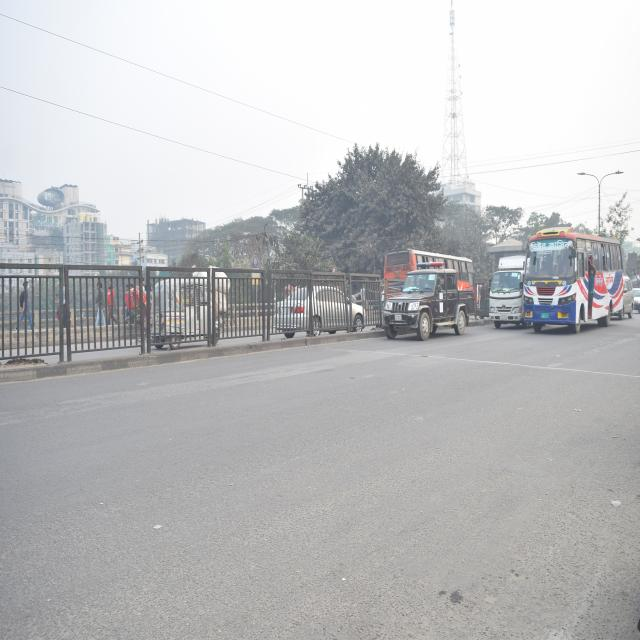bus: (522, 220, 626, 342), (382, 240, 479, 290)
car: (270, 278, 369, 343), (629, 278, 640, 320)
pickup-van: (381, 269, 476, 336), (484, 254, 525, 330)
